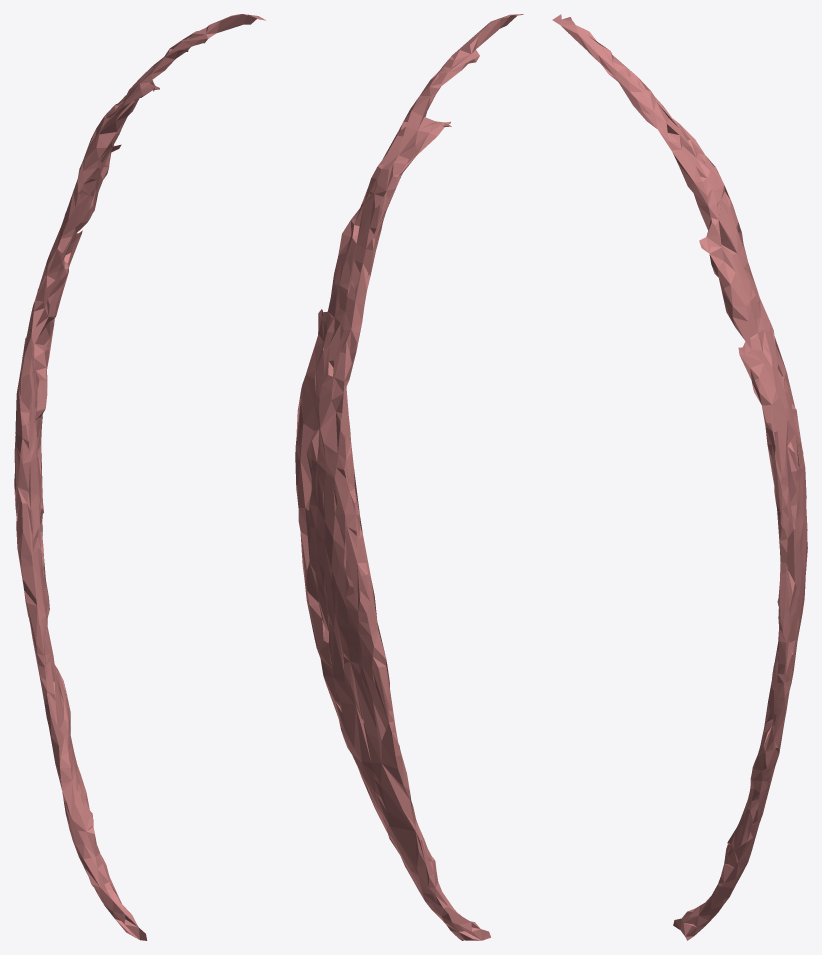
The model's file is Iliocostalis_thoracis_muscle.l.glb.
3 views of the same model, side by side, from view 1: azimuth 90°, elevation 25°; view 2: azimuth 150°, elevation 25°; view 3: azimuth 270°, elevation 25° (orthographic). The views are drawn at different scales.
Parts seen in each view (by area): view 1: Iliocostalis_thoracis_muscle.l; view 2: Iliocostalis_thoracis_muscle.l; view 3: Iliocostalis_thoracis_muscle.l.
Part boxes in pixels (x1,y1,x2,y2): Iliocostalis_thoracis_muscle.l: (14, 14, 265, 940); Iliocostalis_thoracis_muscle.l: (295, 14, 523, 940); Iliocostalis_thoracis_muscle.l: (552, 14, 807, 940).
Size of the model in its own units: 0.0542 by 0.3152 by 0.0788.
